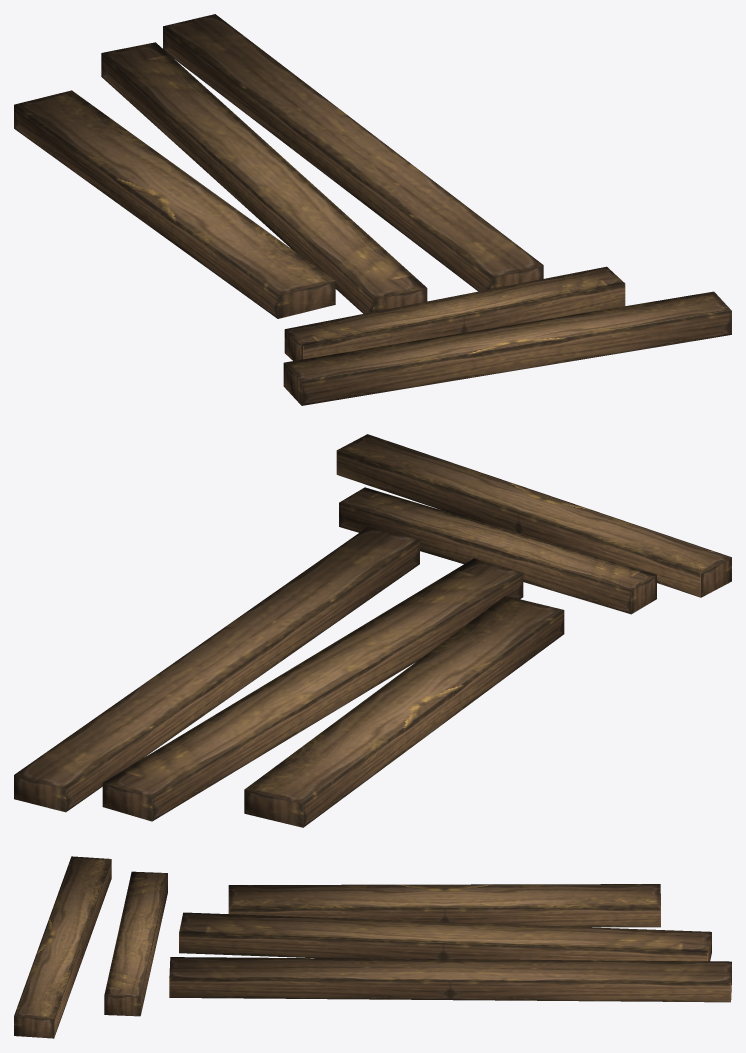
File: Plank_04.FBX
The picture shows the model from 3 angles, top to bottom: view 1: azimuth 30°, elevation 25°; view 2: azimuth 150°, elevation 25°; view 3: azimuth 270°, elevation 25°; orthographic projection. The views are drawn at different scales.
Visible parts, largest first — view 1: Plank_04; view 2: Plank_04; view 3: Plank_04.
Part boxes in pixels (x1,y1,x2,y2): Plank_04: (14, 14, 731, 405); Plank_04: (14, 434, 731, 827); Plank_04: (14, 856, 731, 1038).
Bounding box in the file's own units: 1.92 × 3.59 × 0.1095.
